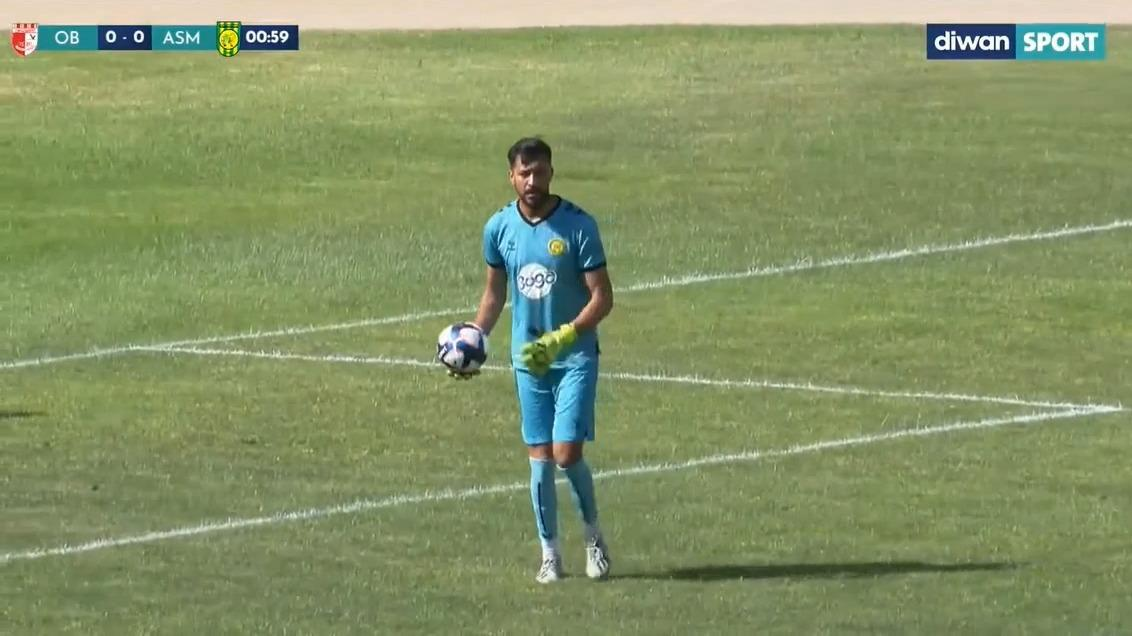ball: (425, 298, 493, 393)
goalkeeper: (401, 91, 676, 581)
